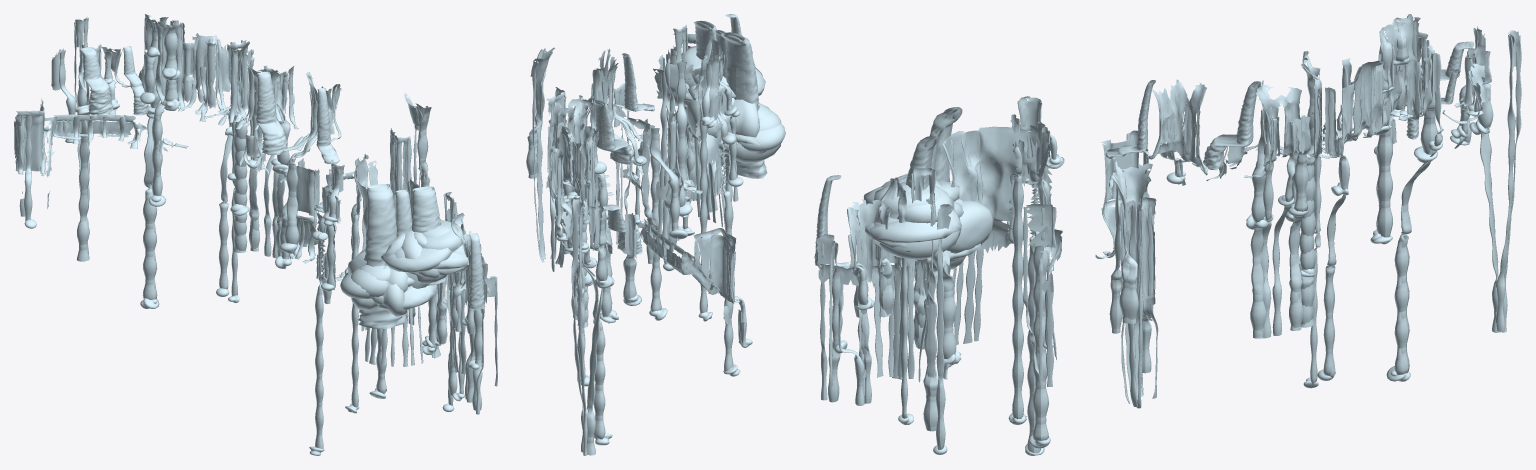
Rendered from SM_Selale.glb.
3 views of the same model, side by side, from view 1: azimuth 30°, elevation 25°; view 2: azimuth 150°, elevation 25°; view 3: azimuth 270°, elevation 25° (orthographic). The views are drawn at different scales.
Parts seen in each view (by area): view 1: SM_Selale; view 2: SM_Selale; view 3: SM_Selale.
Boxes of the visible parts, x1,y1,x2,y2 form: SM_Selale: [14, 14, 497, 455]; SM_Selale: [526, 14, 785, 455]; SM_Selale: [814, 14, 1521, 455].
Size of the model in its own units: 42.41 by 44.62 by 66.75.
